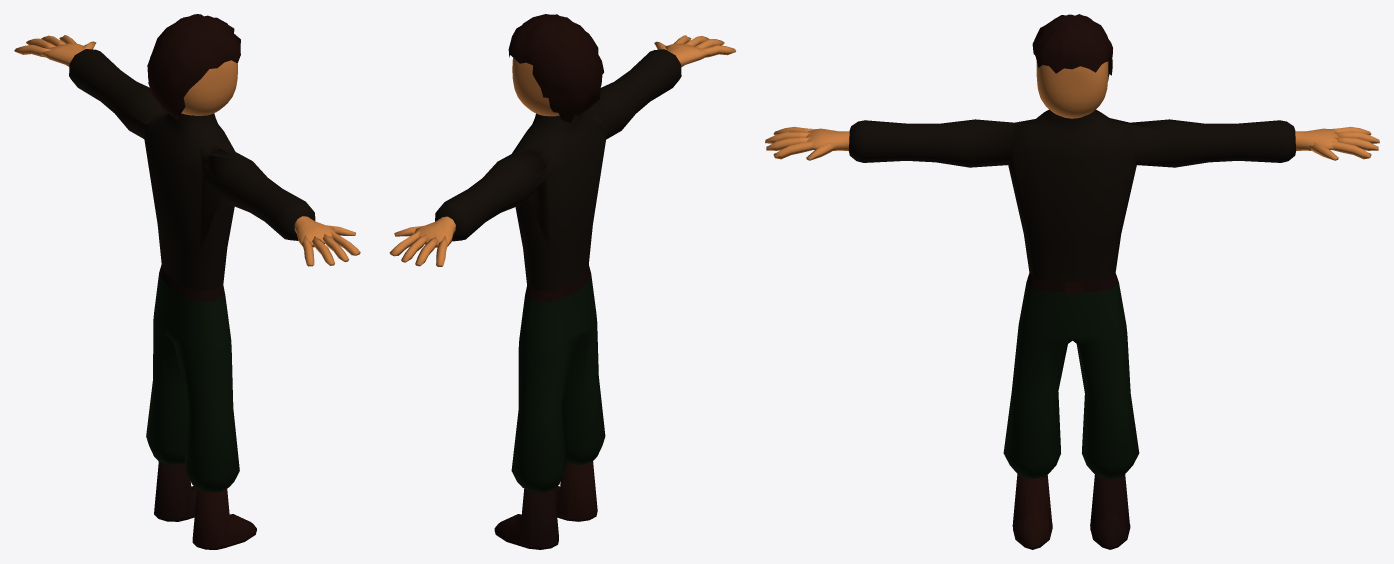
File: RPGcharicter1pcs.obj
The picture shows the model from 3 angles, left to right: view 1: azimuth 30°, elevation 25°; view 2: azimuth 150°, elevation 25°; view 3: azimuth 270°, elevation 25°; orthographic projection.
Visible parts, largest first — view 1: person_Circle.004; view 2: person_Circle.004; view 3: person_Circle.004.
Part boxes in pixels (bbox=[...]): person_Circle.004: bbox=[14, 14, 360, 549]; person_Circle.004: bbox=[389, 14, 735, 549]; person_Circle.004: bbox=[765, 14, 1379, 549].
Size of the model in its own units: 1.72 by 9.89 by 10.77.
